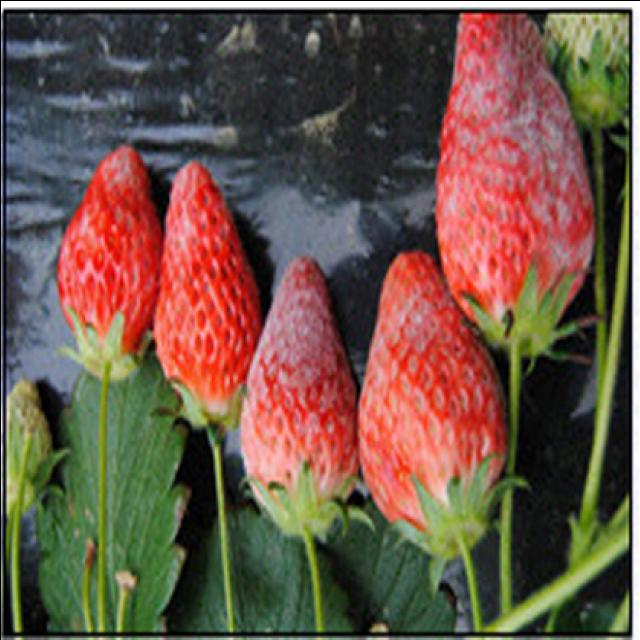Powdery Mildew Fruit: (434, 13, 594, 354), (358, 251, 508, 550), (234, 252, 360, 528)
